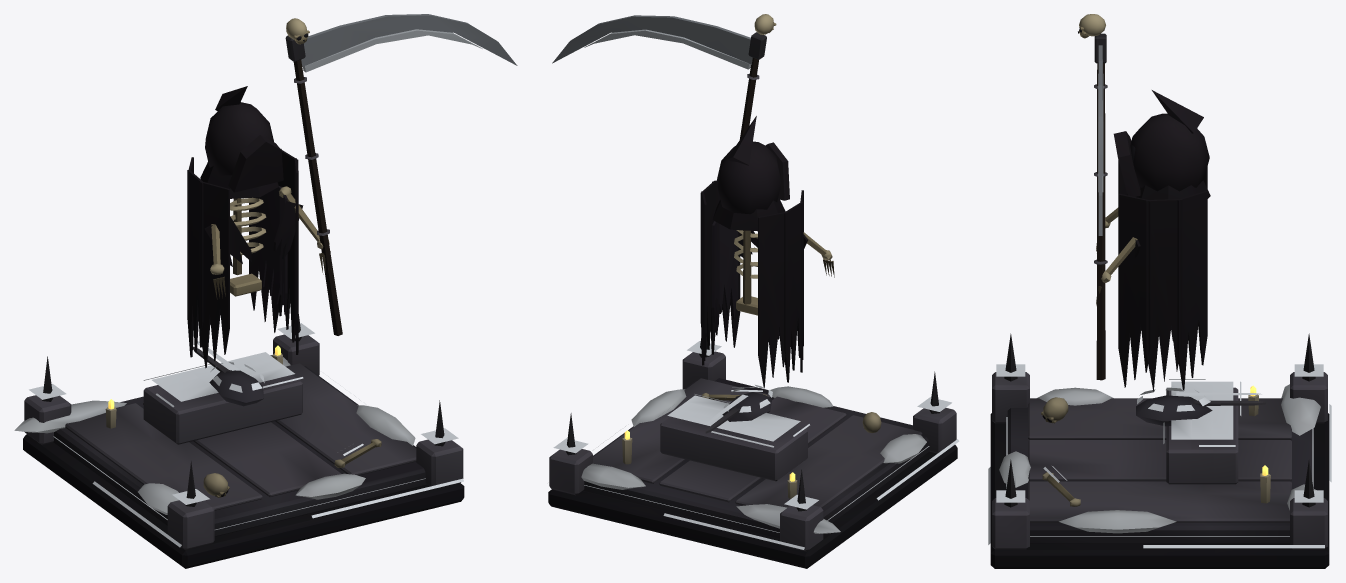
Rendered from ombres-8.glb.
The picture shows the model from 3 angles, left to right: view 1: azimuth 30°, elevation 25°; view 2: azimuth 150°, elevation 25°; view 3: azimuth 270°, elevation 25°; orthographic projection. The views are drawn at different scales.
Parts seen in each view (by area): view 1: ombres_8_architecture, Tourelle_peint, Arme_peint; view 2: ombres_8_architecture, Tourelle_peint, Arme_peint; view 3: ombres_8_architecture, Tourelle_peint, Arme_peint, CraneFaux_peint.
Part boxes in pixels (x1,y1,x2,y2): ombres_8_architecture: (14, 314, 464, 568); Tourelle_peint: (187, 86, 331, 368); Arme_peint: (285, 14, 517, 335); ombres_8_architecture: (548, 337, 959, 568); Tourelle_peint: (700, 116, 834, 387); Arme_peint: (552, 15, 766, 313); ombres_8_architecture: (988, 333, 1331, 568); Tourelle_peint: (1096, 90, 1210, 391); Arme_peint: (1094, 33, 1107, 380); CraneFaux_peint: (1078, 14, 1105, 38).
Bounding box in the file's own units: 1.15 × 1.29 × 0.811.
